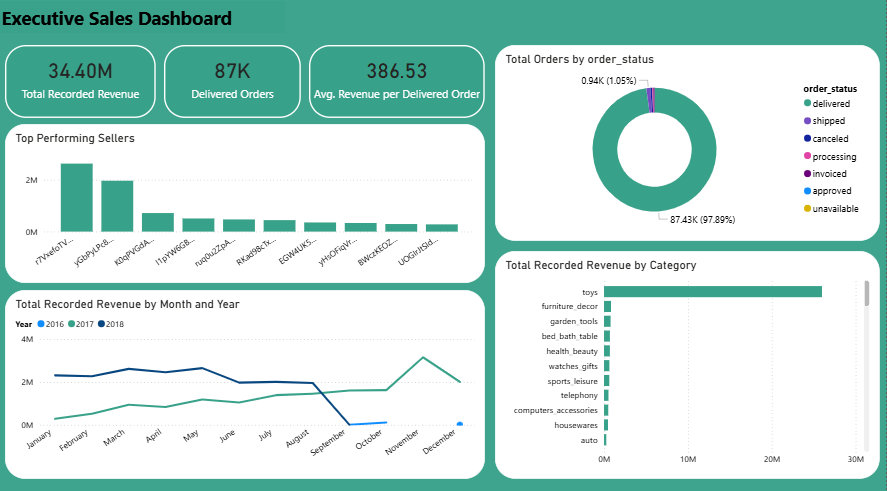

This screenshot's page, from the dashboard's own definition file:
{"tool":"powerbi","page":{"name":"Page 1","canvas":[1280,720],"ordinal":0},"visuals":[{"type":"card","fields":{"Values":["sales_master_data_cleaned.Total Recorded Revenue"]},"box":[10.1,77.8,217.4,105.1],"z":0},{"type":"card","fields":{"Values":["sales_master_data_cleaned.Delivered Orders"]},"box":[239,77.8,197.3,105.1],"z":1},{"type":"card","fields":{"Values":["sales_master_data_cleaned.Average Revenue per Delivered Order"]},"box":[447.8,77.8,253.4,105.1],"z":2},{"type":"lineChart","fields":{"Y":["sales_master_data_cleaned.Total Recorded Revenue"],"Category":["Date_table.Month"],"Series":["Date_table.Year"]},"box":[10.1,430.6,691.2,272.2],"z":3},{"type":"donutChart","fields":{"Category":["sales_master_data_cleaned.order_status"],"Y":["Count(sales_master_data_cleaned.order_id)"]},"box":[715.7,77.8,554.4,282.2],"z":4},{"type":"clusteredBarChart","title":"Total Recorded Revenue by Category","fields":{"Category":["sales_master_data_cleaned.product_category_name"],"Y":["sales_master_data_cleaned.Total Recorded Revenue"]},"box":[715.7,374.4,554.4,328.3],"z":5},{"type":"lineStackedColumnComboChart","title":" Top Performing Sellers","fields":{"Category":["sales_master_data_cleaned.seller_id"],"Y":["sales_master_data_cleaned.Delivered Recorded Revenue"]},"box":[10.1,191.5,691.2,229],"z":6},{"type":"textbox","box":[0,14.4,413.3,46.1],"z":7}]}

Visuals, with their boxes in screenshot pixels (x1, y1, x2, y2), scaled from the page's 1280x720 canvas onto the 887x491 screenshot:
card - sales_master_data_cleaned.Total Recorded Revenue: locate(7, 53, 158, 125)
card - sales_master_data_cleaned.Delivered Orders: locate(166, 53, 302, 125)
card - sales_master_data_cleaned.Average Revenue per Delivered Order: locate(310, 53, 486, 125)
lineChart - sales_master_data_cleaned.Total Recorded Revenue x Date_table.Month: locate(7, 294, 486, 479)
donutChart - sales_master_data_cleaned.order_status x Count(sales_master_data_cleaned.order_id): locate(496, 53, 880, 246)
"Total Recorded Revenue by Category" clusteredBarChart: locate(496, 255, 880, 479)
" Top Performing Sellers" lineStackedColumnComboChart: locate(7, 131, 486, 287)
textbox: locate(0, 10, 286, 41)
